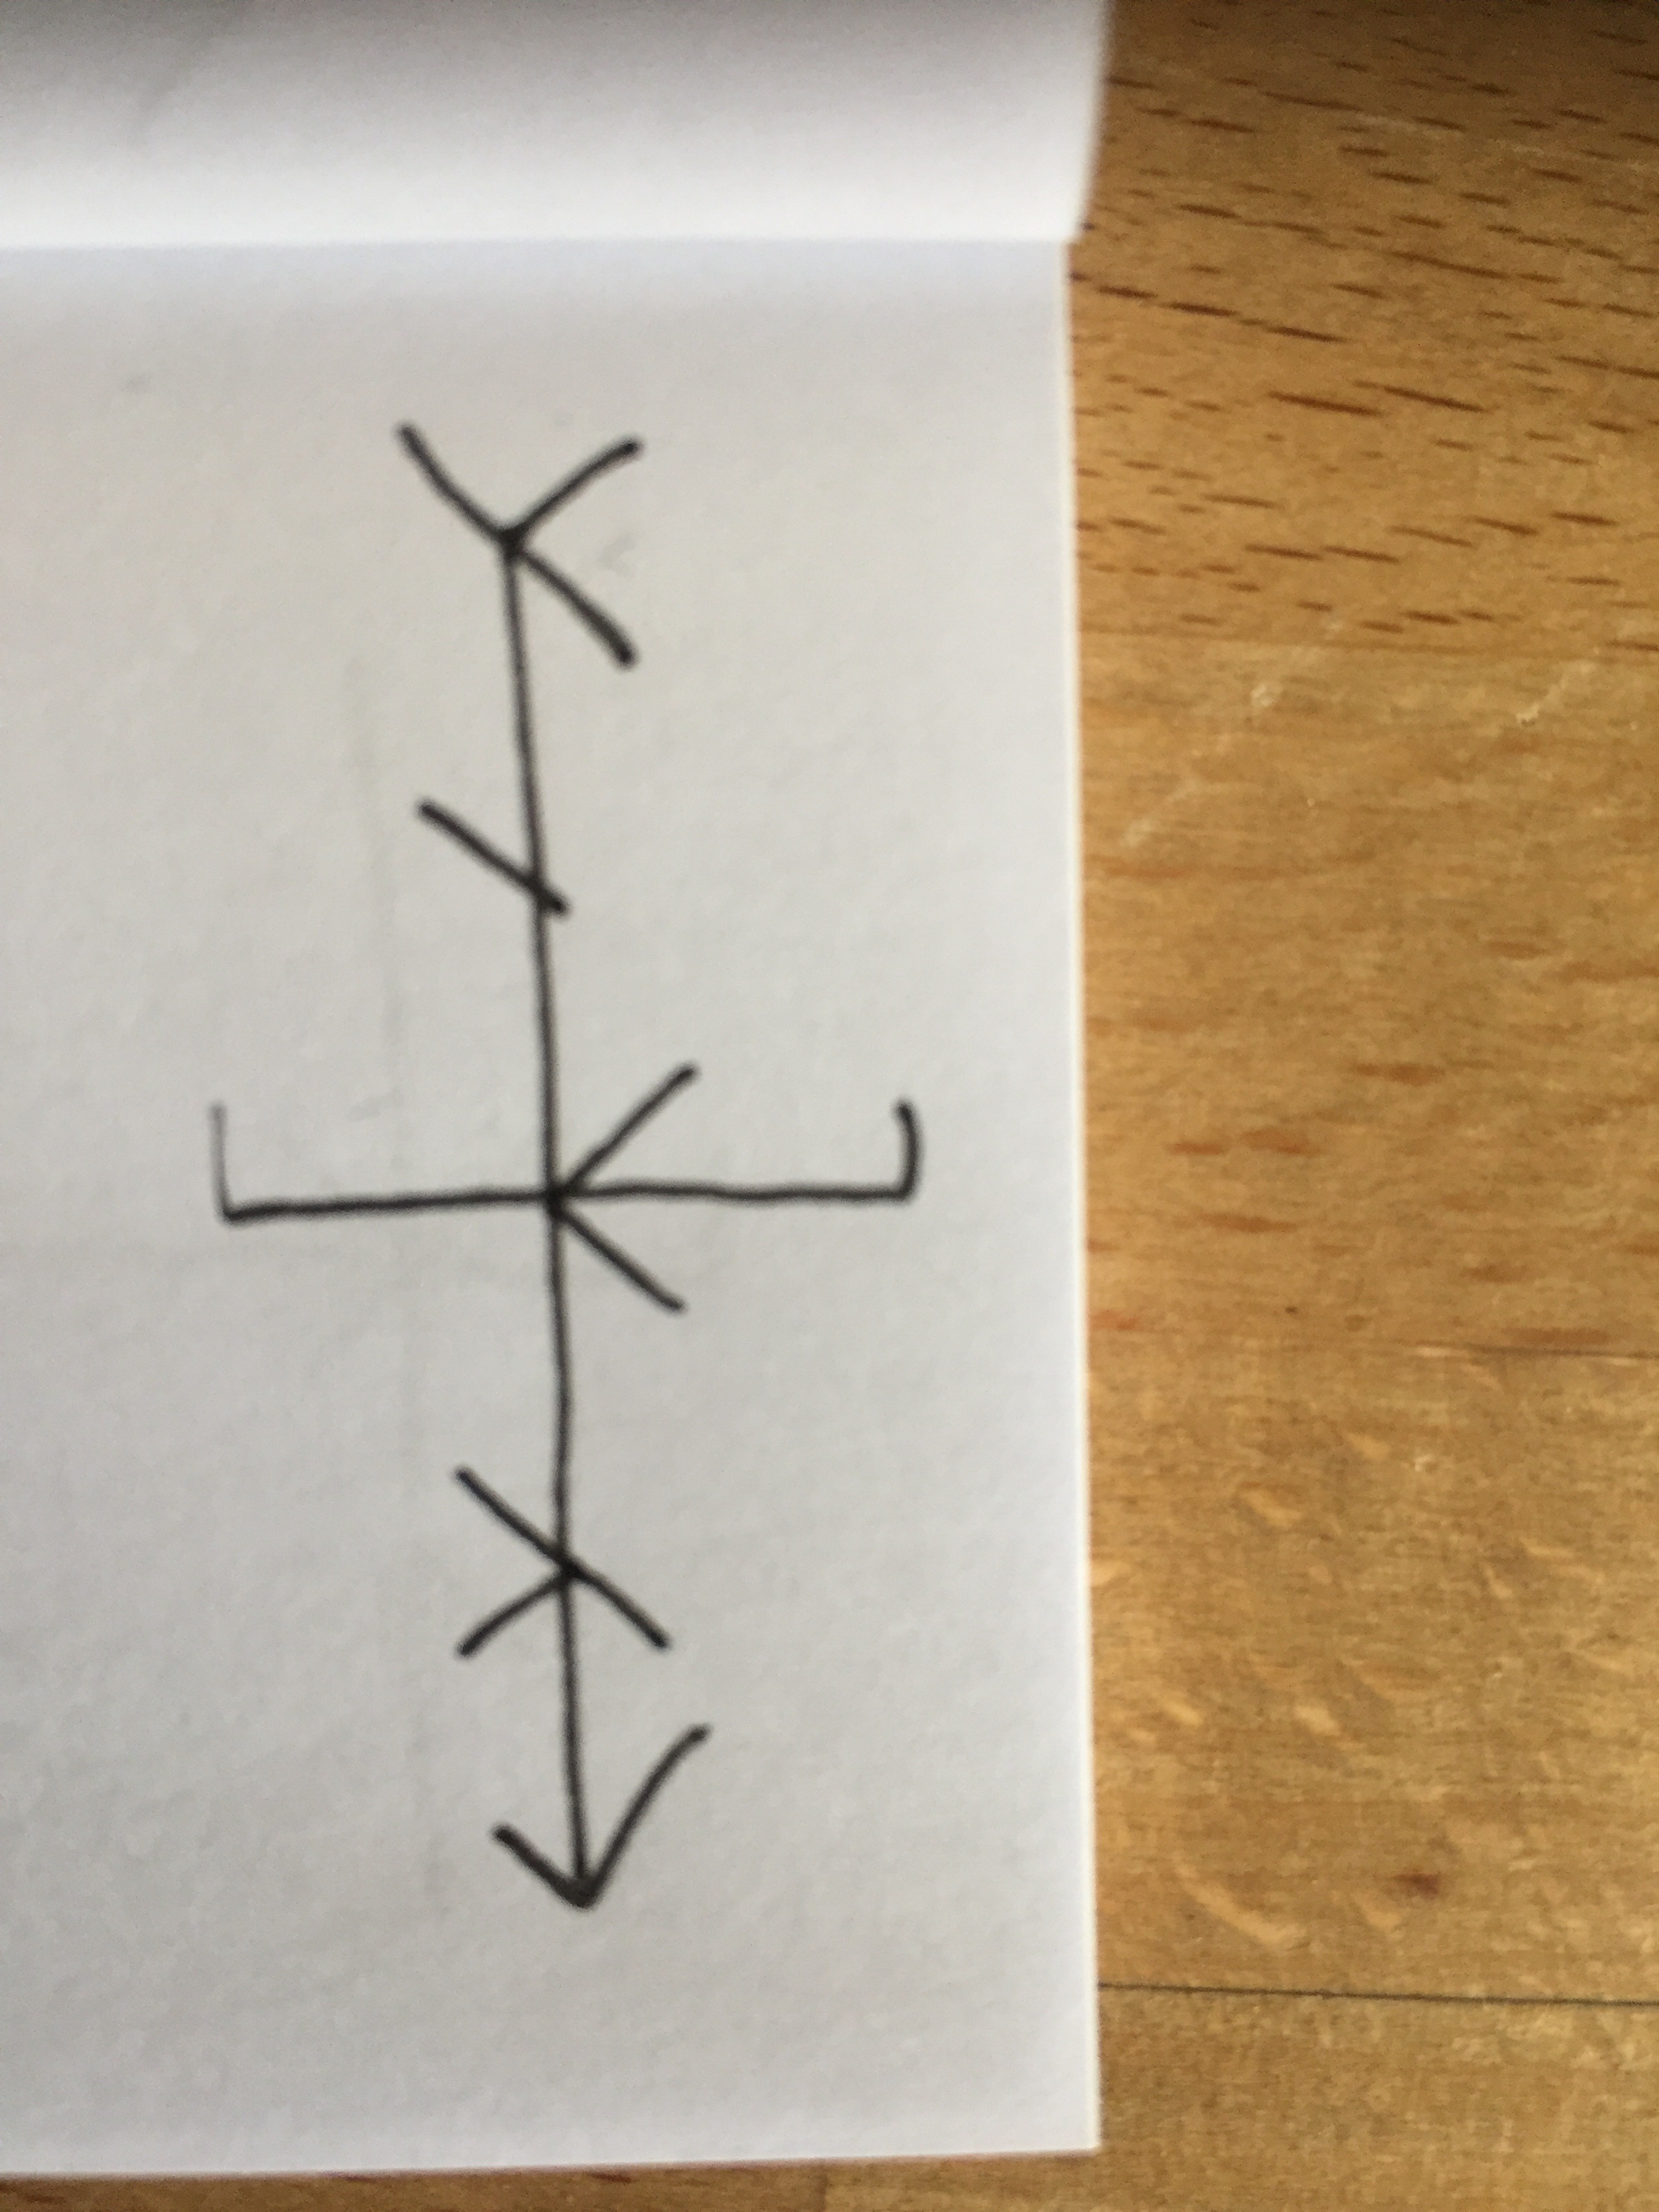Bar: (392, 418, 711, 1909)
Barcode: (207, 421, 920, 1911)
End: (673, 1097, 920, 1211)
Start: (211, 1099, 535, 1228)
